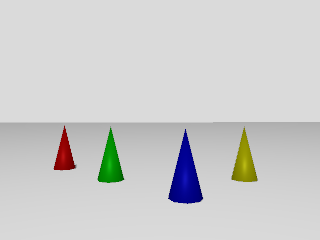blue: (167, 127, 203, 205)
green: (96, 124, 125, 184)
red: (53, 123, 77, 173)
yellow: (230, 126, 258, 184)
